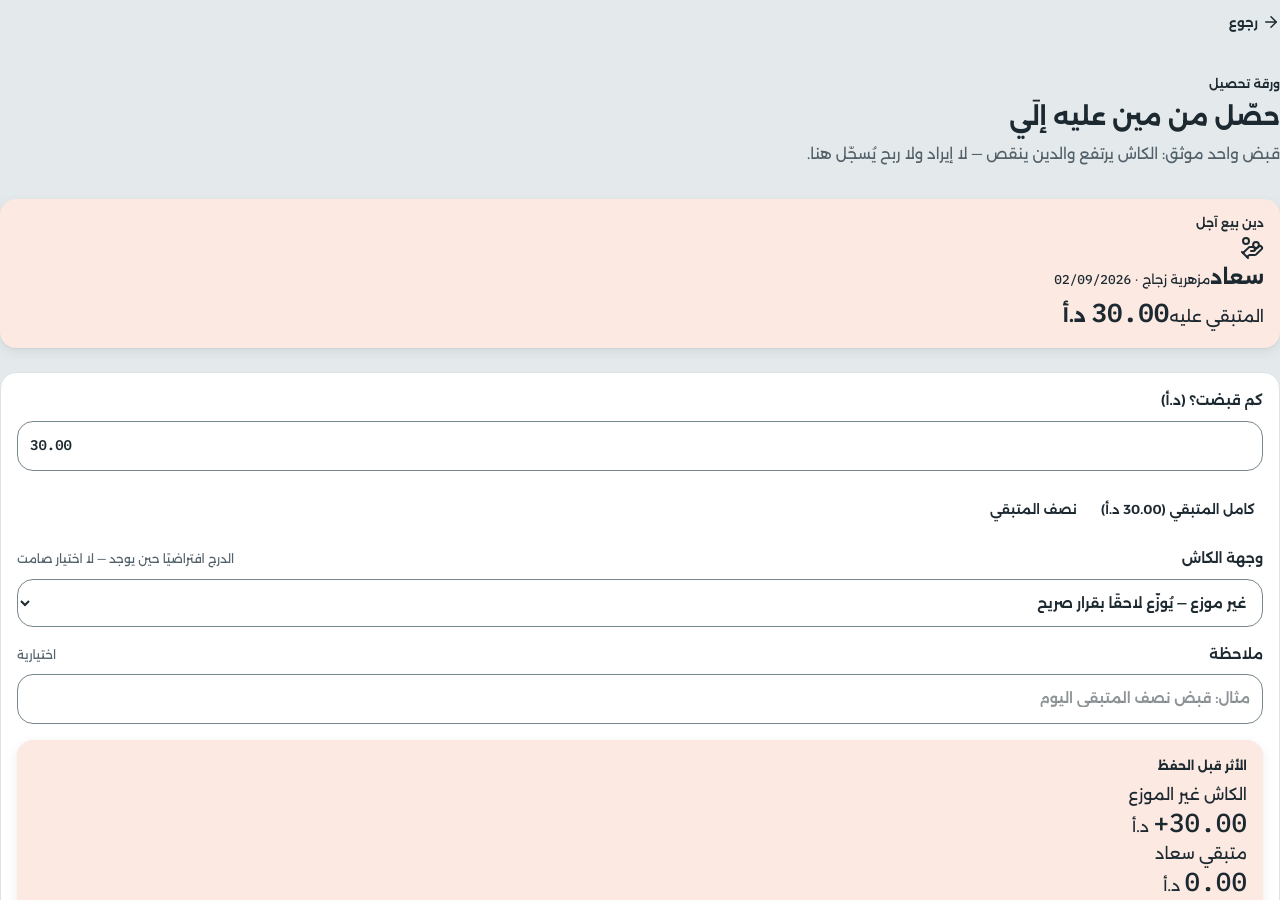
Test: Collect — ورقة التحصيل (المجموعة ٢ §6) › Z2.5: نتيجة تحصيل البيع الآجل تُسمّي نوع الدين والقطعة المبيعة
Expected: the text "سعاد" is shown, [1210,236,1264,289]
Replace the text in the field named "مبلغ التحصيل" with "10". click: [640, 446]
box: [17,421,1263,471]
(page scrolled)
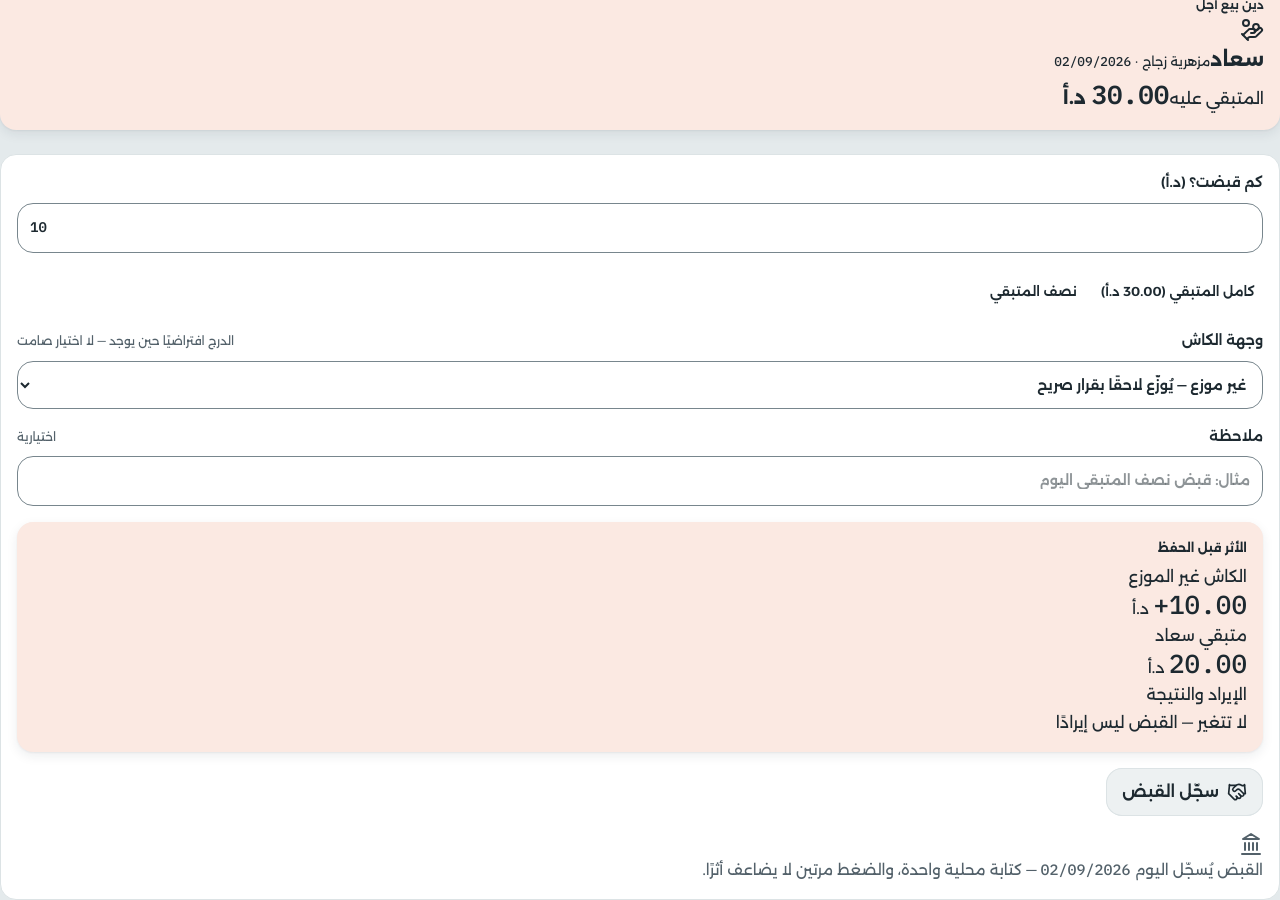
Click the button "سجّل القبض". click: [1185, 792]
box: [1106,768,1263,816]
(page scrolled)
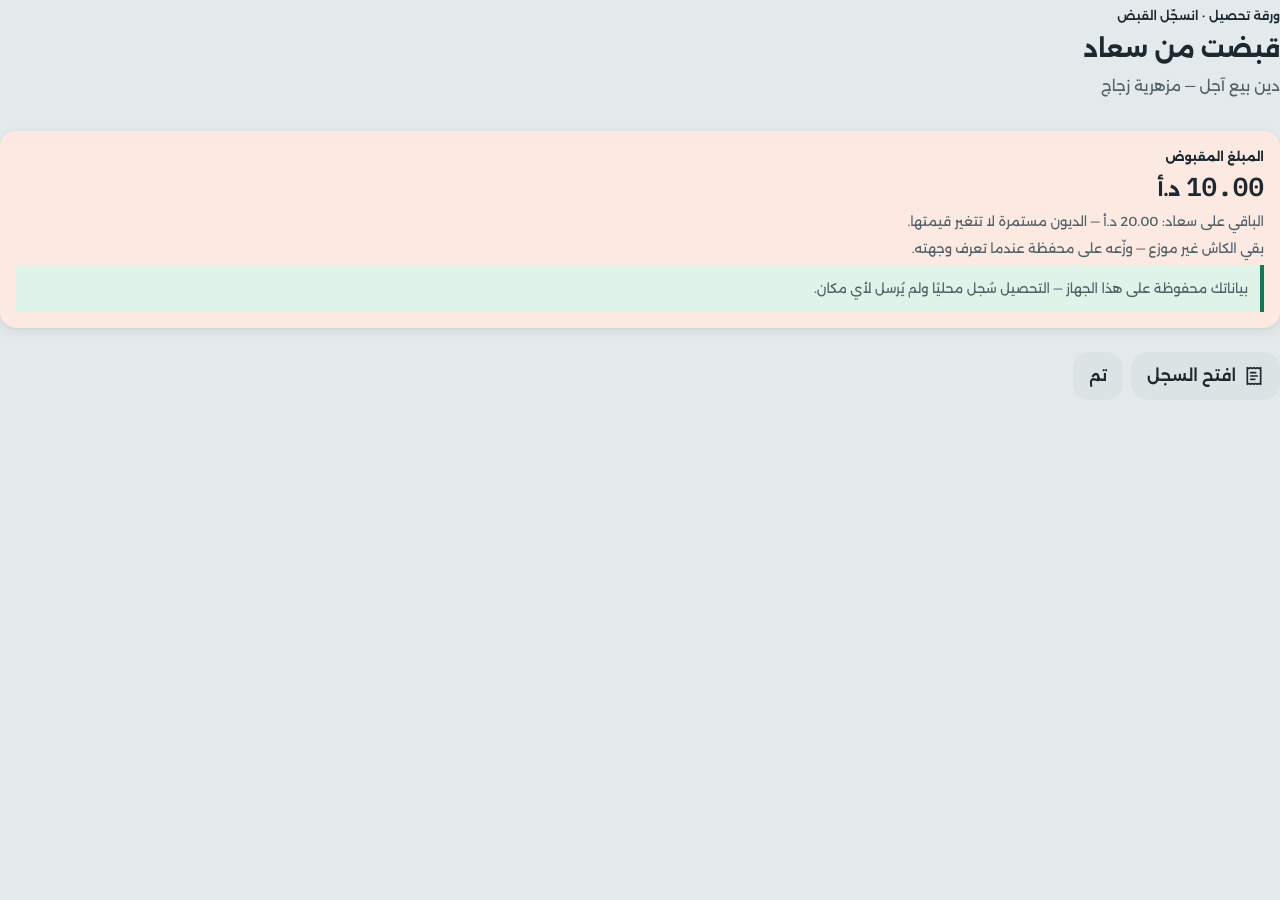
Result: the heading "قبضت من سعاد" is shown at [1084,34,1279,63]
Result: the text "دين بيع آجل — مزهرية زجاج" is shown at [1101,76,1279,96]
Result: the text "الباقي على سعاد: 20.00 د.أ — الديون مستمرة لا تتغير قيمتها." is shown at [907,213,1264,229]
